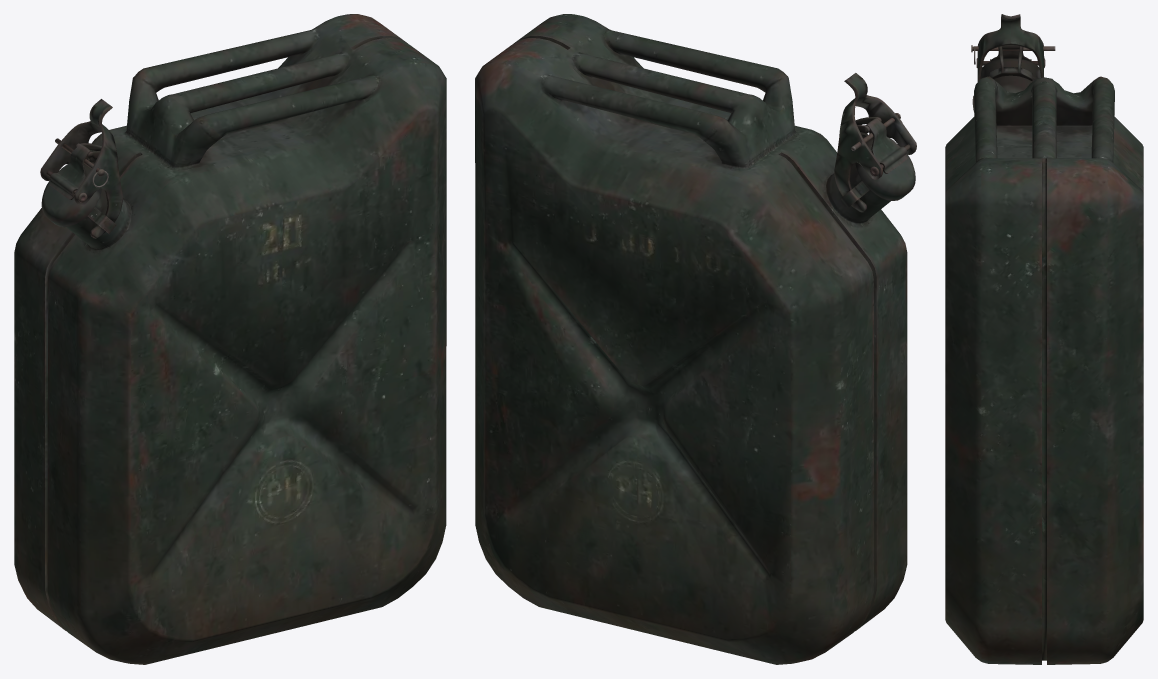
The model's file is jerrycan.glb.
3 views of the same model, side by side, from view 1: azimuth 30°, elevation 25°; view 2: azimuth 150°, elevation 25°; view 3: azimuth 270°, elevation 25° (orthographic). The views are drawn at different scales.
Parts seen in each view (by area): view 1: metal_jerrycan_green_pin; view 2: metal_jerrycan_green_pin; view 3: metal_jerrycan_green_pin.
Part boxes in pixels (<box>): metal_jerrycan_green_pin: <box>14,14,446,664</box>; metal_jerrycan_green_pin: <box>475,14,916,664</box>; metal_jerrycan_green_pin: <box>945,14,1143,664</box>.
Size of the model in its own units: 0.3604 by 0.4998 by 0.1709.
1 material, 1 textured.
